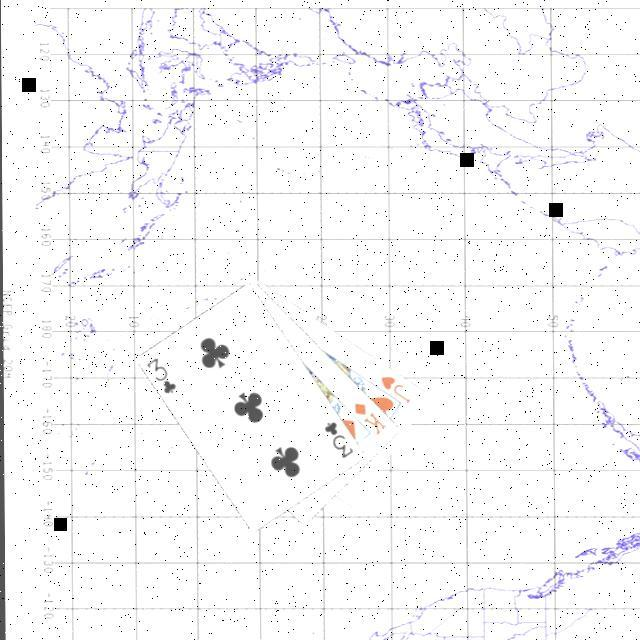3C: (322, 417, 356, 461), (144, 354, 179, 396)
JH: (378, 371, 414, 405)
KD: (351, 398, 390, 438)
